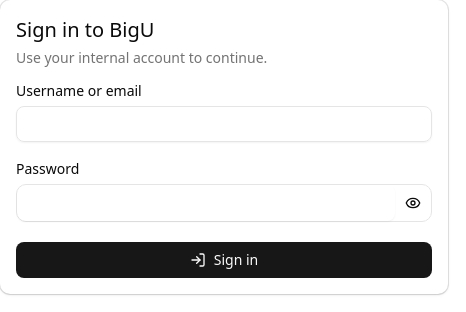
LoginForm › shows a loading state during submission
The width and height of the screenshot is (466, 312).
Type "aditya" into the field labelled "Username or email" at (224, 124), box [16,106,432,142]
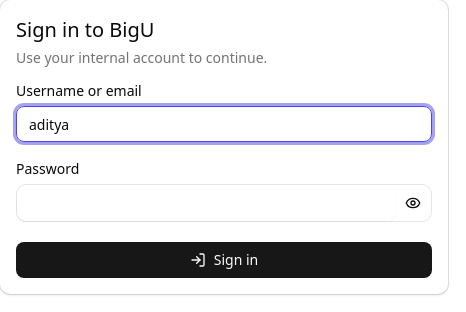
Type "Password123" into the password field labelled "Password" at (206, 203), box [17,185,395,221]
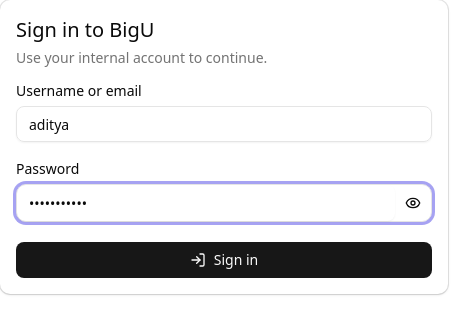
Click the button "Sign in" at (224, 260), box [16,242,432,278]
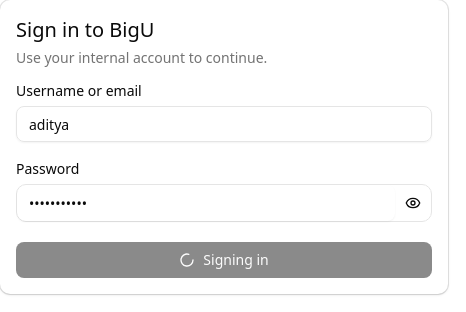
Expected: the button "Signing in" is disabled, [16,242,432,278]
